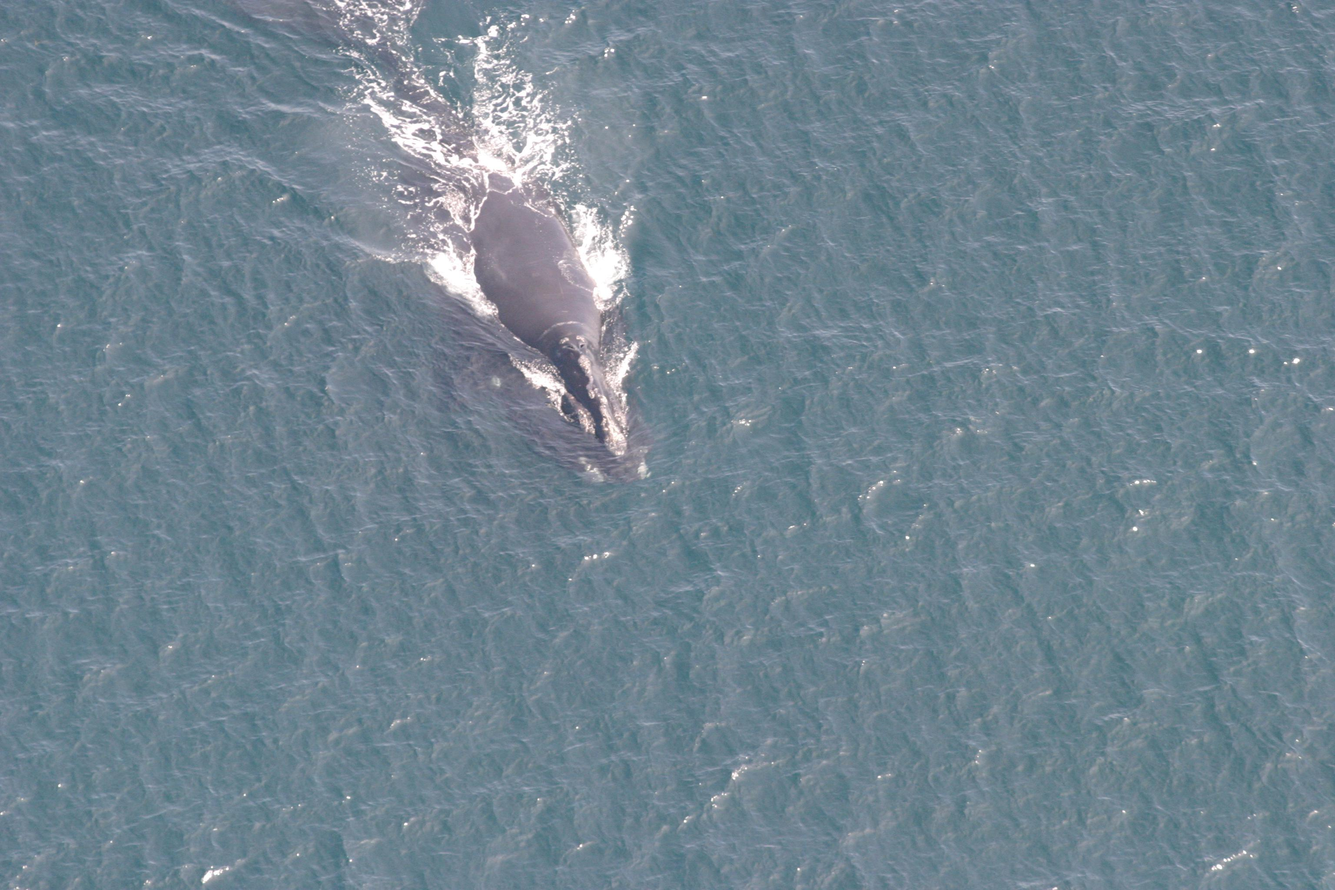whale: (234, 0, 666, 492)
